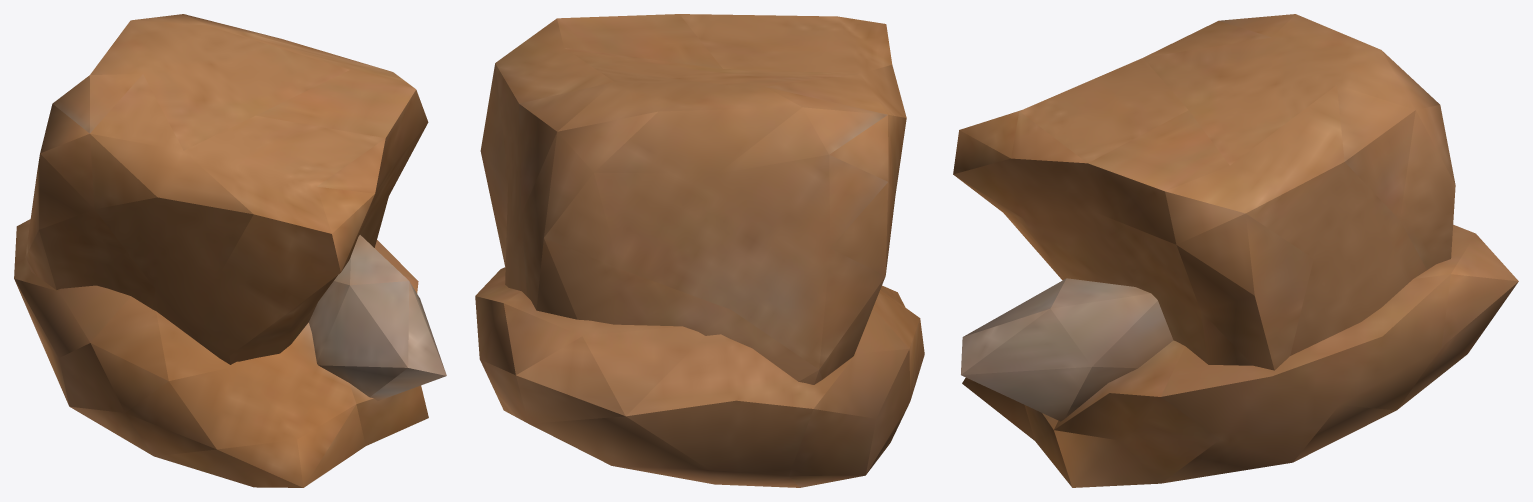
File: terron_2.glb
The picture shows the model from 3 angles, left to right: view 1: azimuth 30°, elevation 25°; view 2: azimuth 150°, elevation 25°; view 3: azimuth 270°, elevation 25°; orthographic projection. The views are drawn at different scales.
Parts seen in each view (by area): view 1: terron_2_malla; view 2: terron_2_malla; view 3: terron_2_malla.
Boxes of the visible parts, x1,y1,x2,y2 form: terron_2_malla: (14, 14, 446, 487); terron_2_malla: (475, 14, 924, 487); terron_2_malla: (953, 14, 1518, 487).
Size of the model in its own units: 0.1318 by 0.124 by 0.1717.
Materials: 1 (1 with a texture image).
